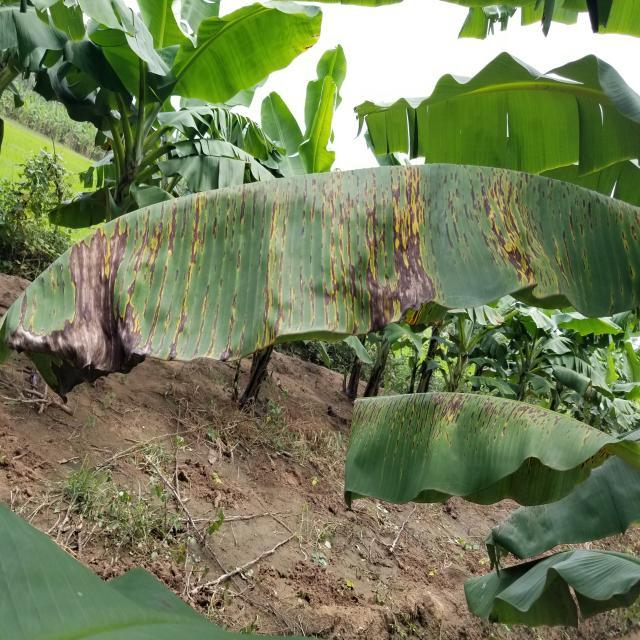Early_rust: (0, 160, 640, 366), (325, 353, 607, 507)
